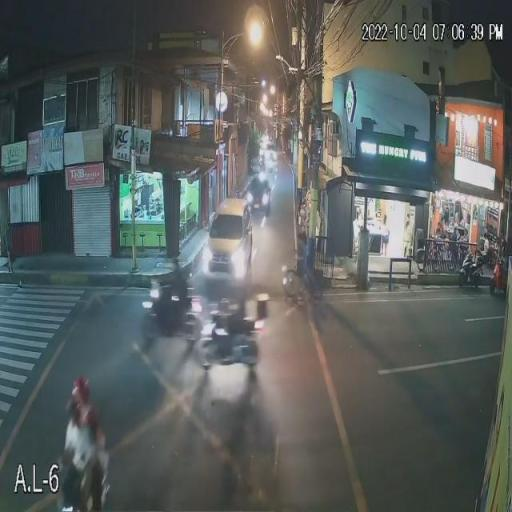helmet: (64, 396, 85, 431), (72, 377, 91, 412), (170, 256, 182, 271)
motorcycle: (54, 431, 116, 506), (139, 282, 203, 344)
rider: (66, 423, 101, 479), (166, 270, 192, 328)
